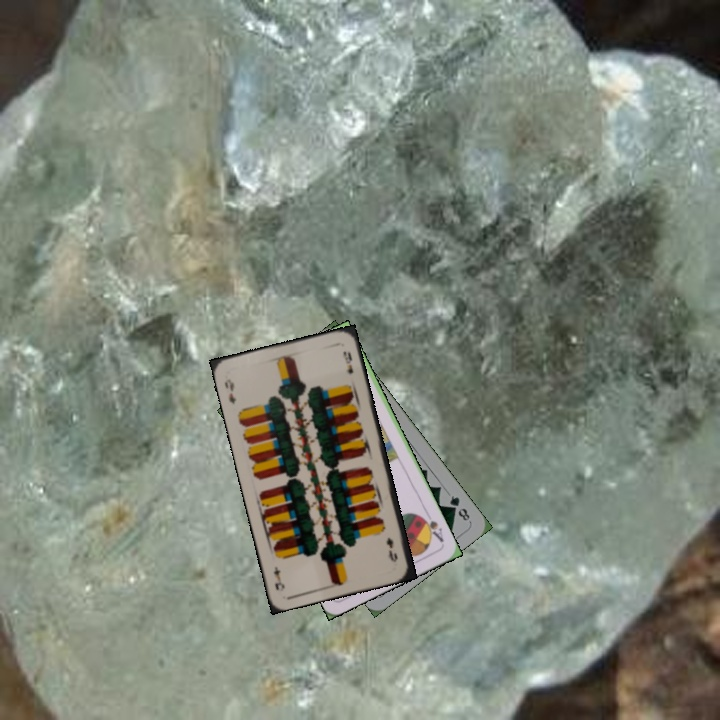E9: (220, 375, 239, 407), (382, 533, 400, 565)
G8: (445, 491, 472, 524)
SA: (417, 512, 446, 545)
